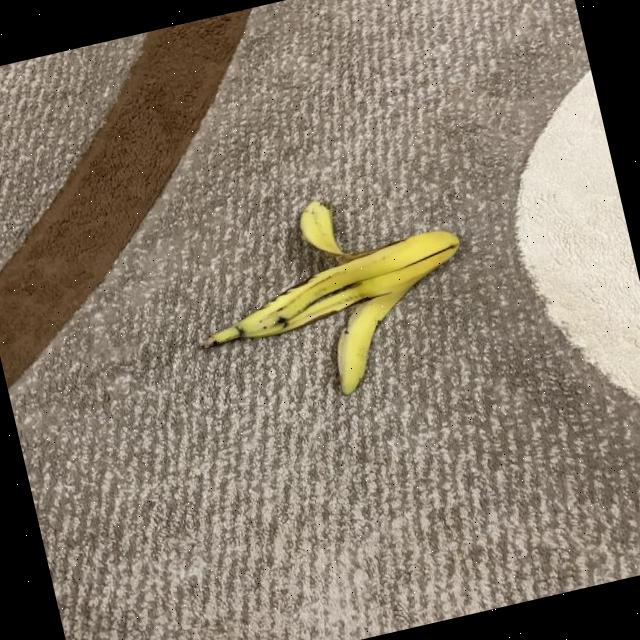banana-peel: (174, 170, 486, 424)
